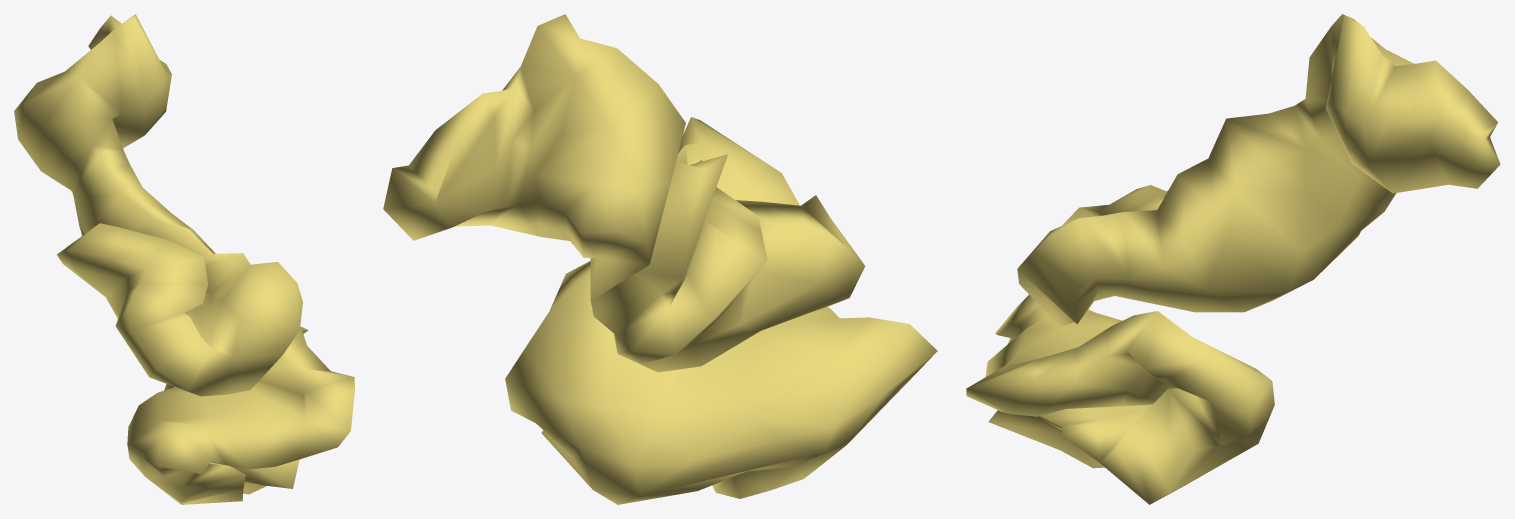
File: paracentral-sulcus-l.glb
3 renders of one model, left to right at view 1: azimuth 30°, elevation 25°; view 2: azimuth 150°, elevation 25°; view 3: azimuth 270°, elevation 25°, orthographic. The views are drawn at different scales.
Visible parts, largest first — view 1: Paracentral sulcus.l; view 2: Paracentral sulcus.l; view 3: Paracentral sulcus.l.
Boxes of the visible parts, x1,y1,x2,y2 form: Paracentral sulcus.l: (14, 14, 354, 504); Paracentral sulcus.l: (383, 14, 937, 504); Paracentral sulcus.l: (966, 14, 1500, 504).
Size of the model in its own units: 0.0189 by 0.0339 by 0.0362.
